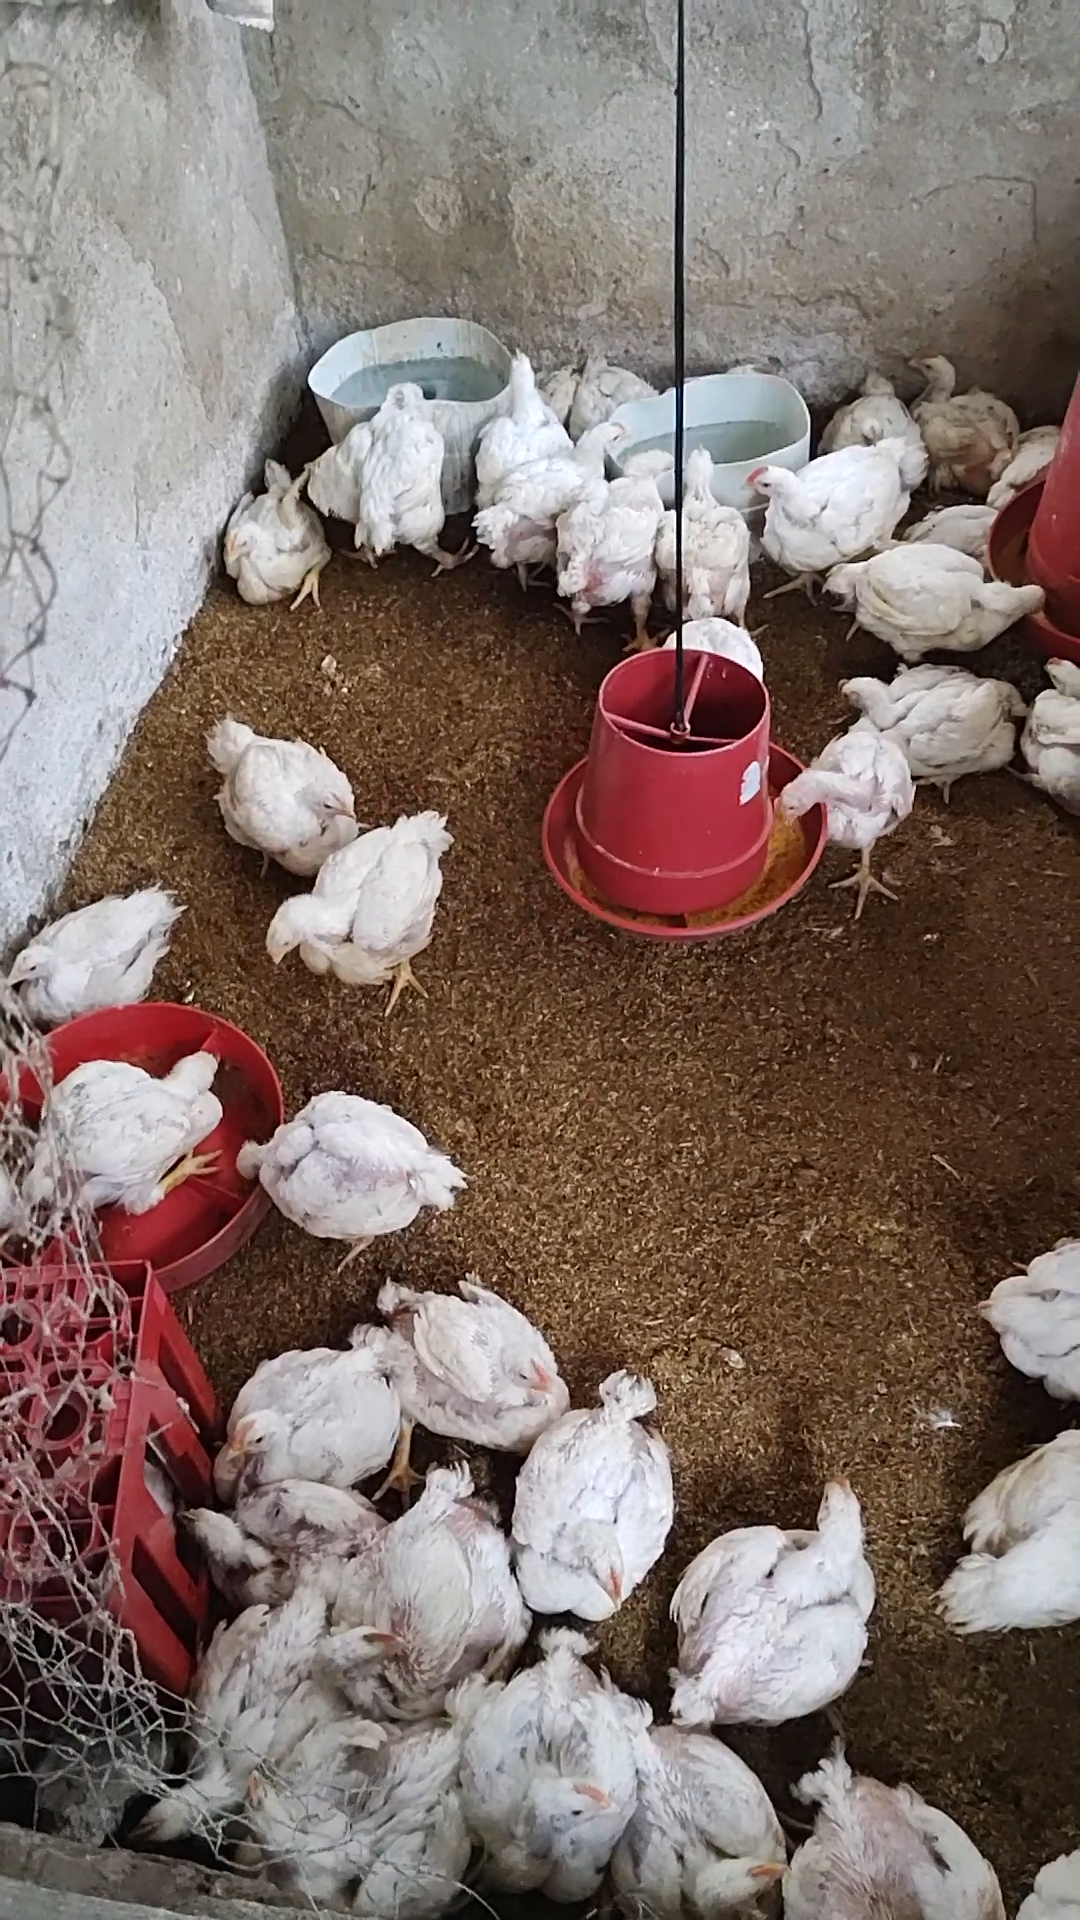Pollos: (659, 1461, 898, 1731), (297, 1466, 524, 1731), (225, 1693, 484, 1920), (450, 1629, 658, 1905), (123, 1577, 318, 1869), (3, 1015, 239, 1232), (223, 1084, 479, 1270), (255, 798, 462, 1013), (596, 1693, 785, 1920), (508, 1374, 670, 1629), (786, 1735, 1002, 1920), (367, 1271, 578, 1443), (934, 1399, 1080, 1639), (546, 433, 694, 649), (819, 529, 1048, 667), (738, 436, 938, 593), (770, 719, 919, 928), (823, 663, 1018, 822), (223, 1323, 397, 1495), (320, 385, 477, 576), (467, 404, 641, 572), (0, 873, 189, 1026), (189, 711, 359, 880), (173, 1472, 382, 1606), (649, 440, 764, 651), (214, 456, 328, 624), (911, 338, 1021, 493), (469, 327, 574, 473), (828, 363, 934, 489), (1023, 634, 1080, 822)
